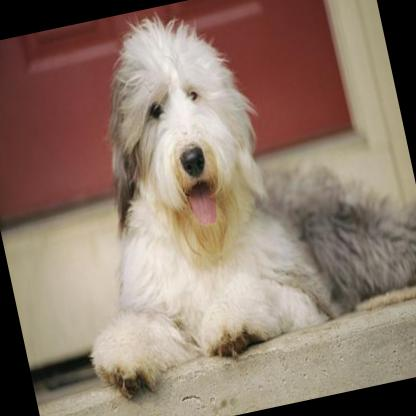Old_English_sheepdog: (20, 0, 416, 407)
